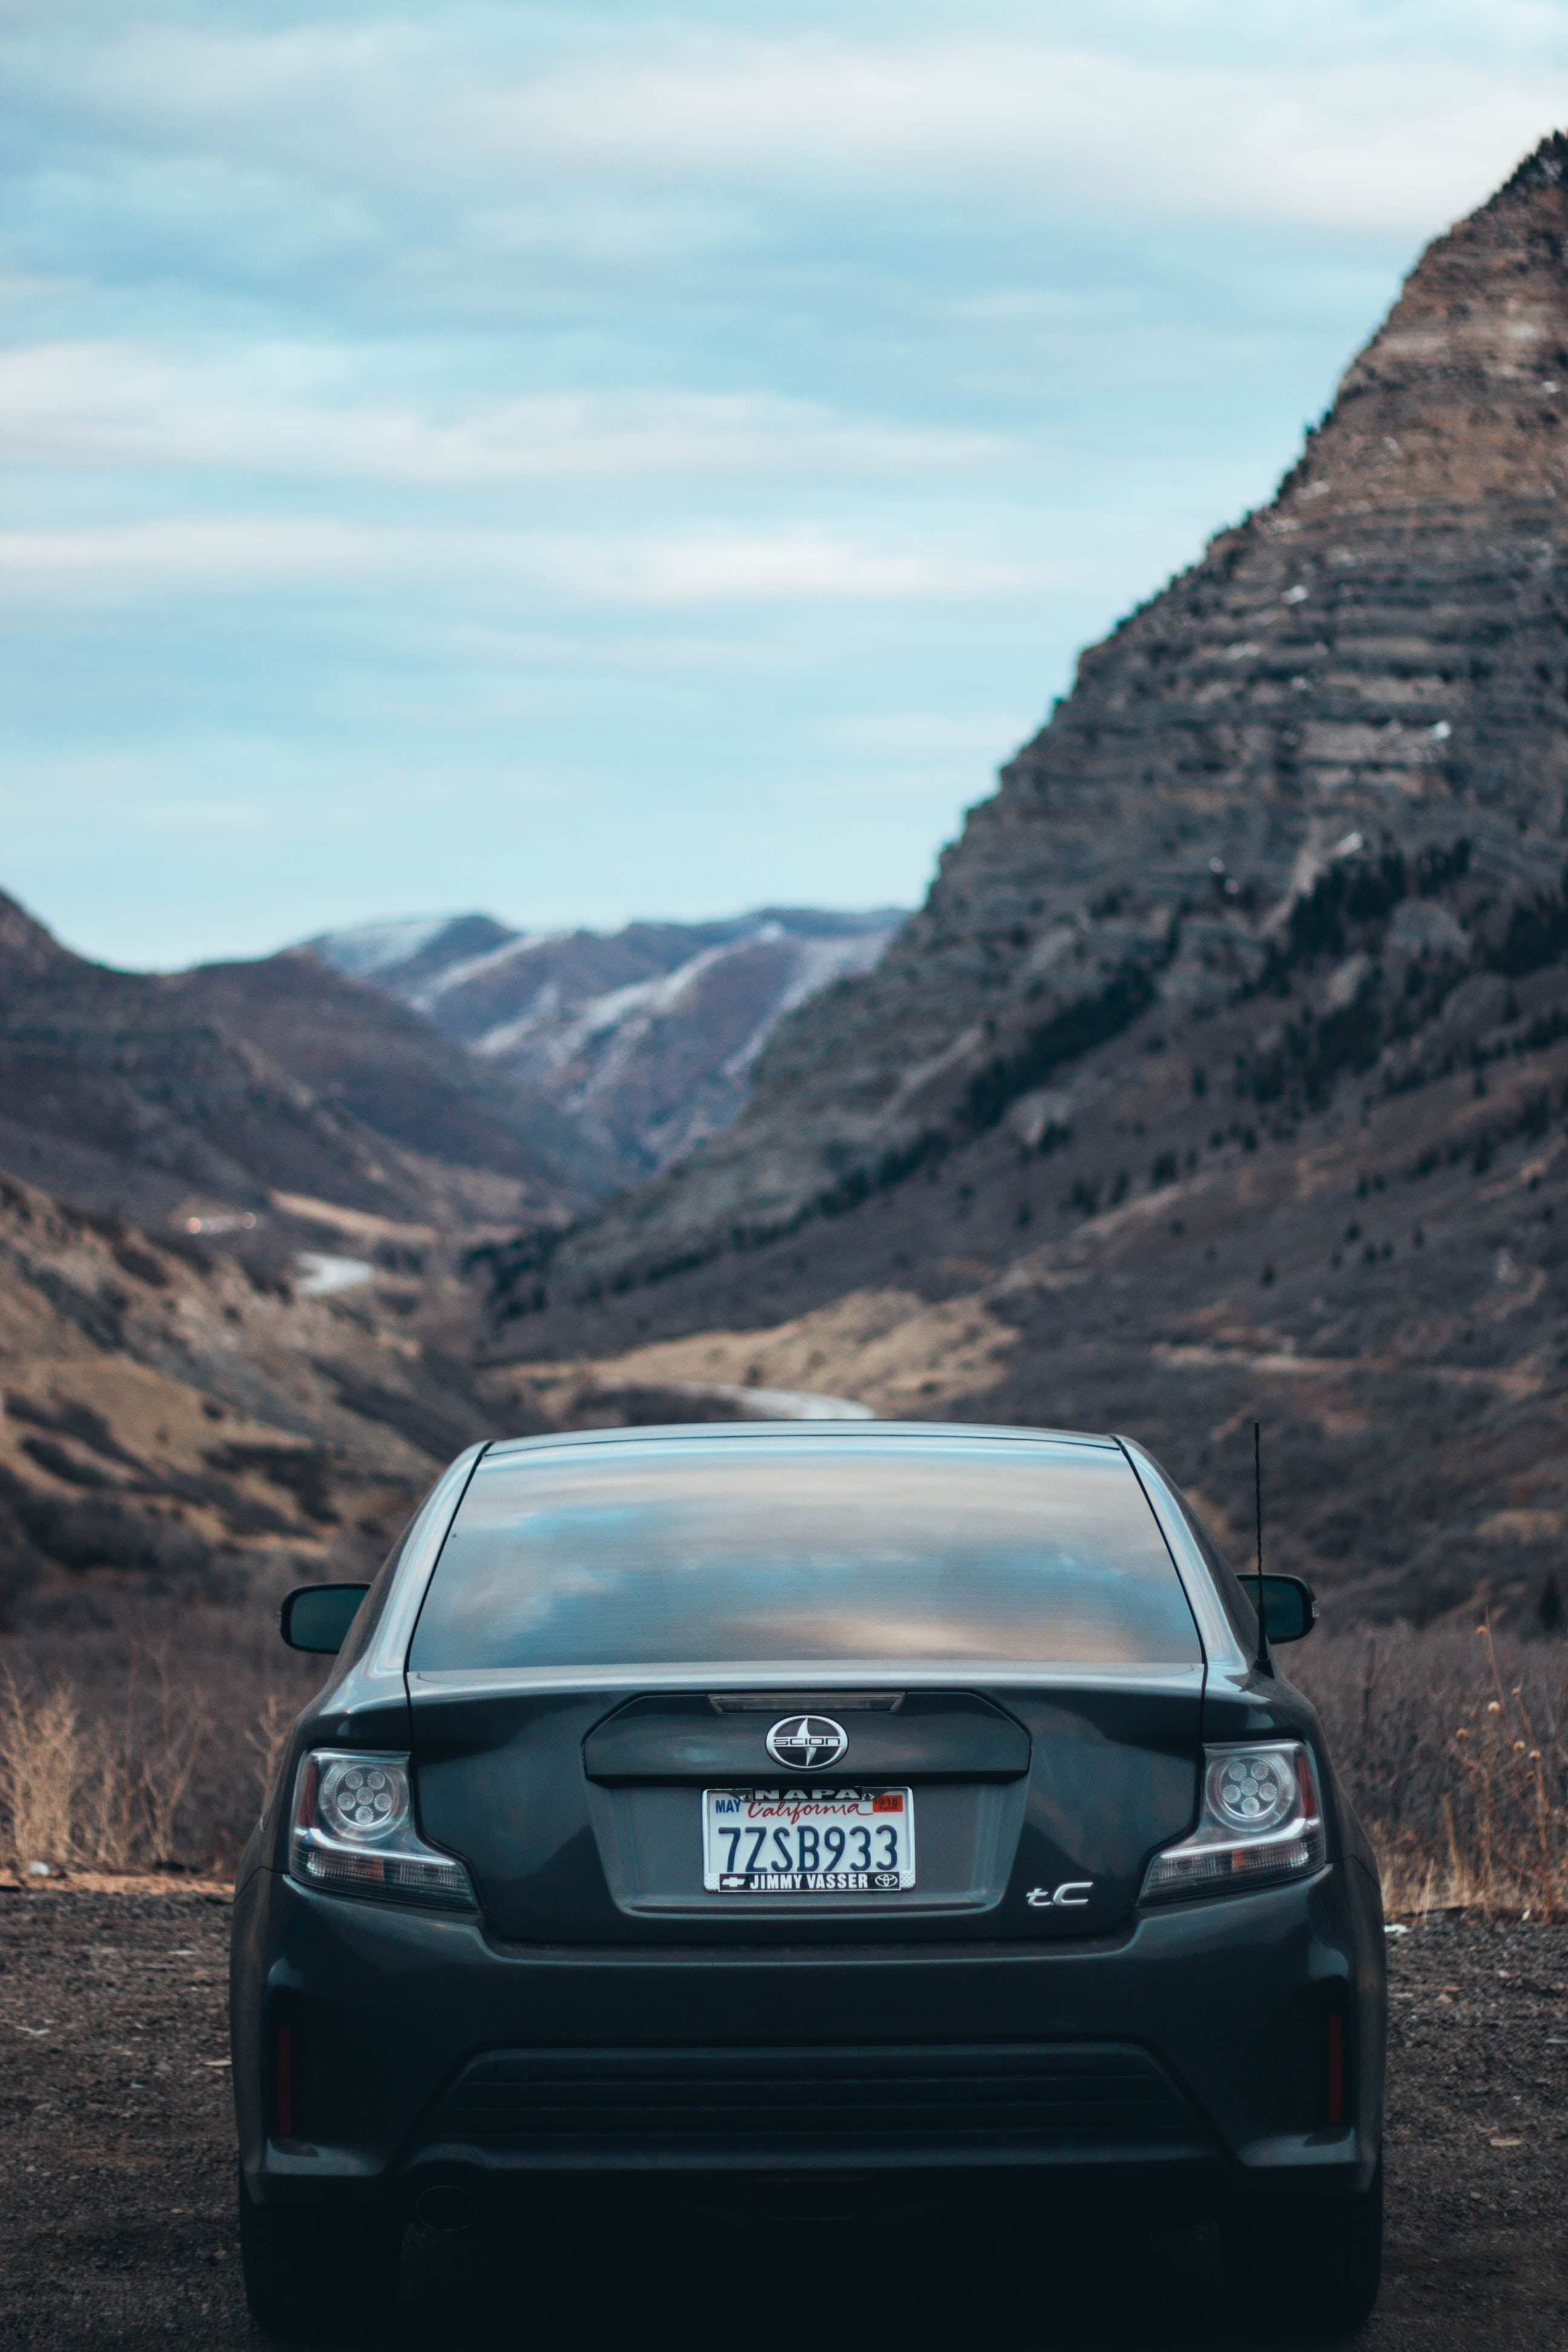plaka: (703, 1786, 913, 1878)
